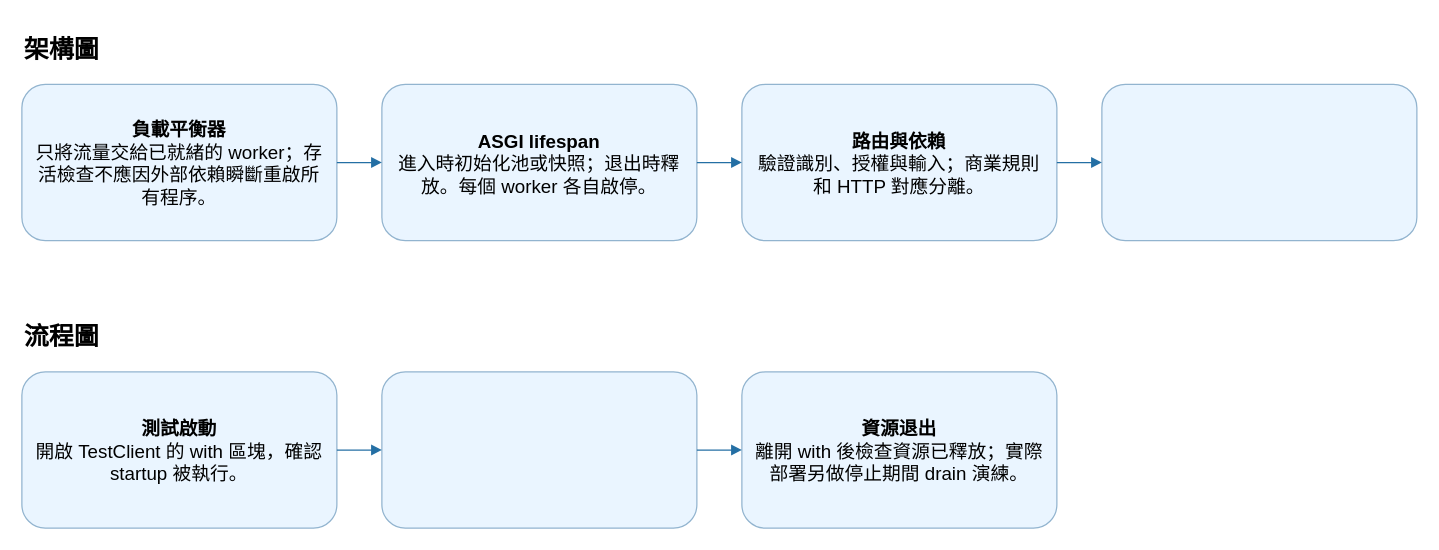
The diagram is 1439 pixels wide and 550 high, and some of its shapes have lost their labels. Here are the shapes that lost their labels. From the top down, the box of each, then its label:
(1101, 83, 1417, 241): 公開 response_model 序列化、驗證並過濾輸出；持久狀態另存外部資料庫。
(381, 371, 697, 528): 驗證執行期 測 200 回應欄位、未知設備 404，OpenAPI 與實際回應都核對。
